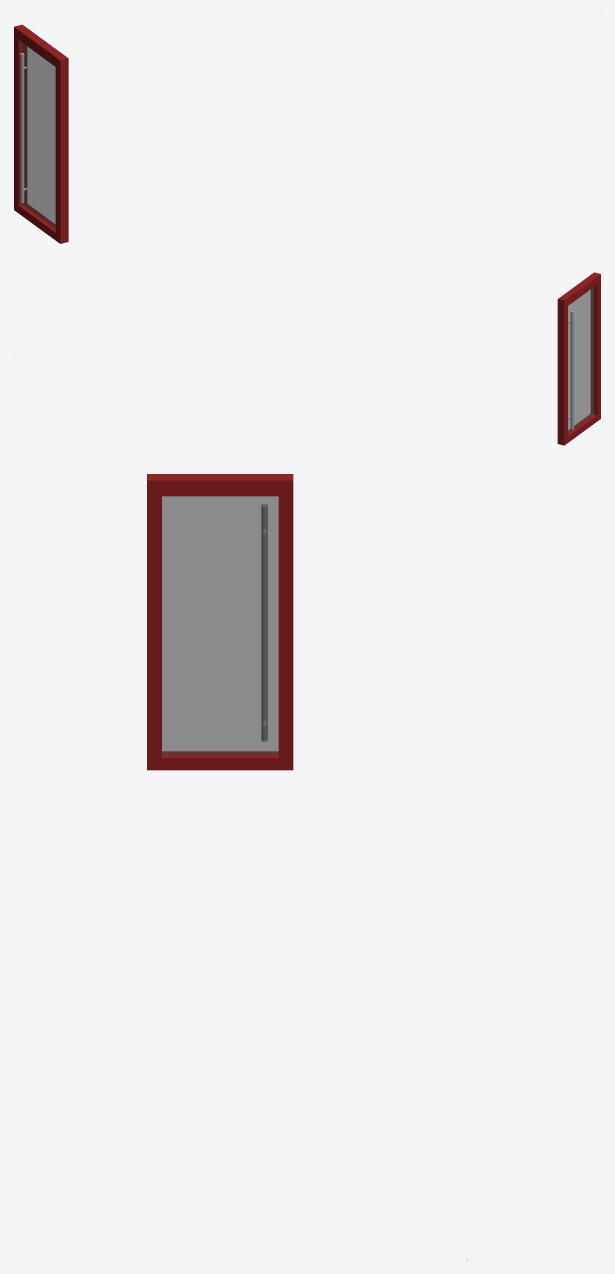
The model's file is tabakladen_tuer_withLights.fbx.
The picture shows the model from 3 angles, top to bottom: view 1: azimuth 30°, elevation 25°; view 2: azimuth 150°, elevation 25°; view 3: azimuth 270°, elevation 25°; orthographic projection. The views are drawn at different scales.
Parts seen in each view (by area): view 1: door1, pCube1, pCylinder1; view 2: door1, pCube1, pCylinder1; view 3: pCube1, door1, pCylinder1.
Part boxes in pixels (x1,y1,x2,y2): door1: (14,24,68,243); pCube1: (22,43,55,228); pCylinder1: (20,53,24,203); door1: (557,272,600,445); pCube1: (568,287,594,433); pCylinder1: (570,311,573,429); pCube1: (162,496,278,755); door1: (147,474,293,770); pCylinder1: (261,504,267,741).
Size of the model in its own units: 7.32 by 2 by 2.
